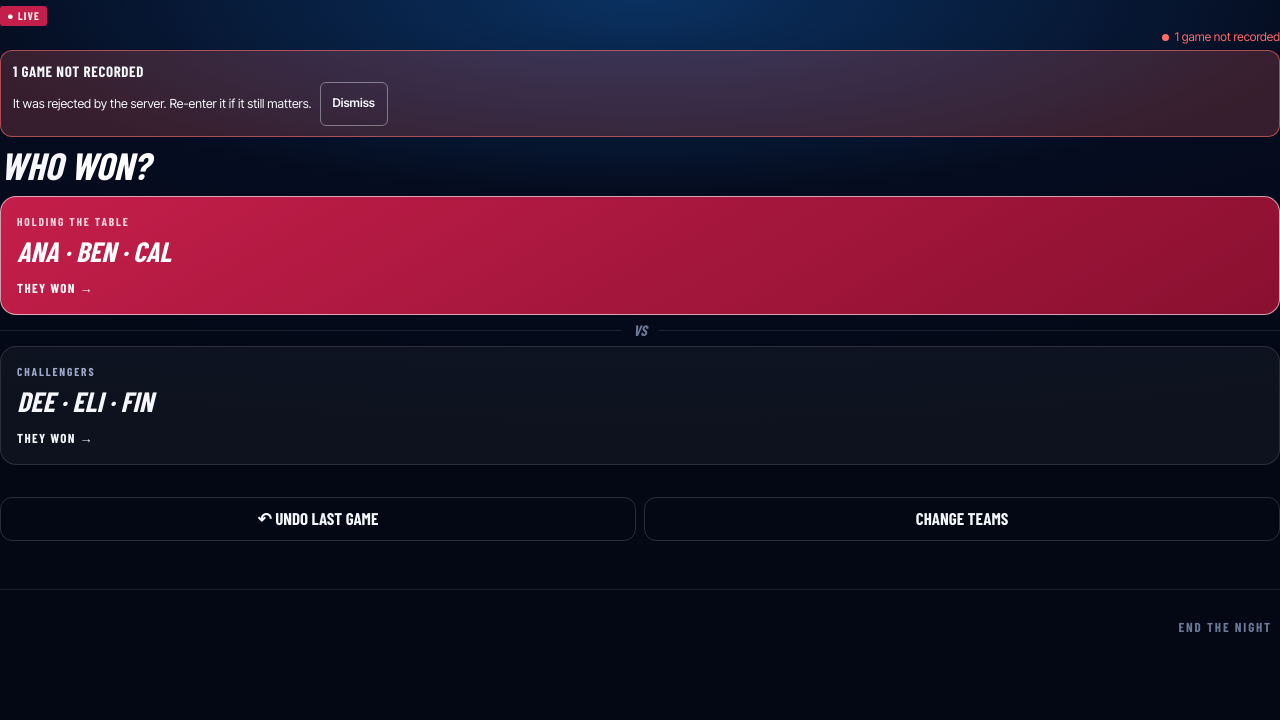
Test: TableMode: ending the night › refuses to end while a dead-lettered game is still unacknowledged
Click the button "End the night": (1225, 628) [1170,606,1279,650]
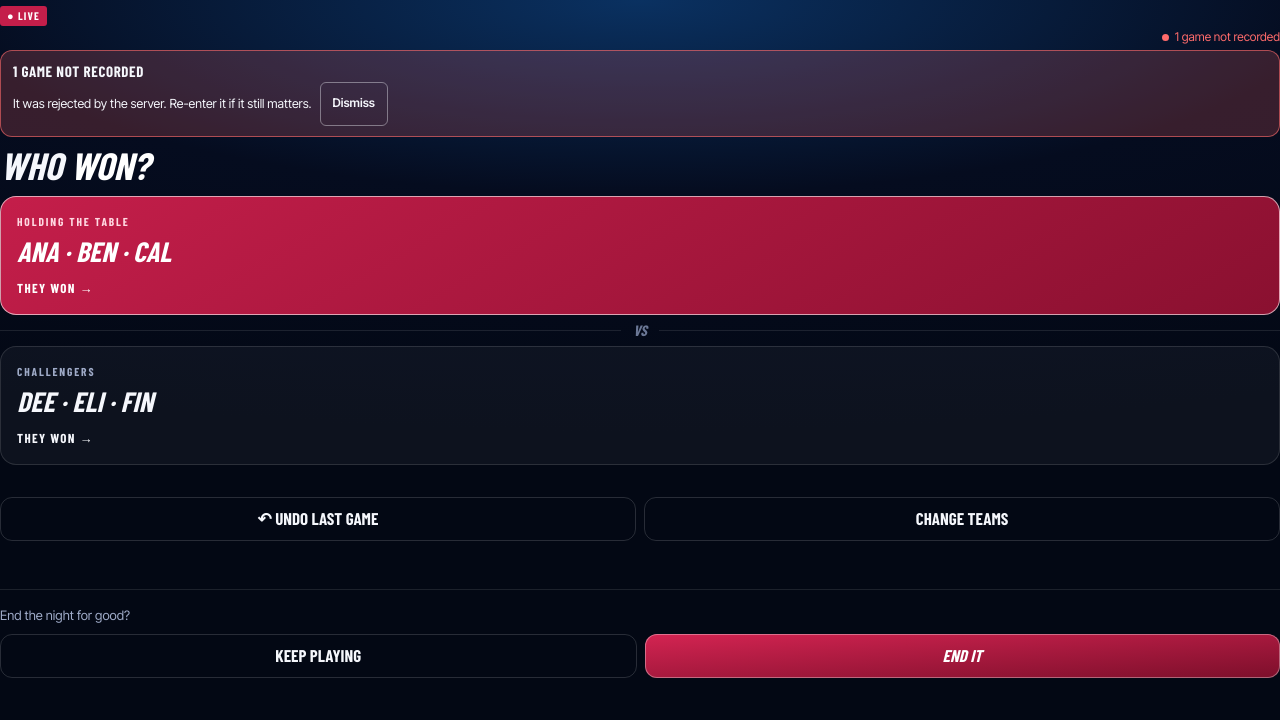
Click the button "End it": (962, 656) [644,634,1279,678]
(page scrolled)
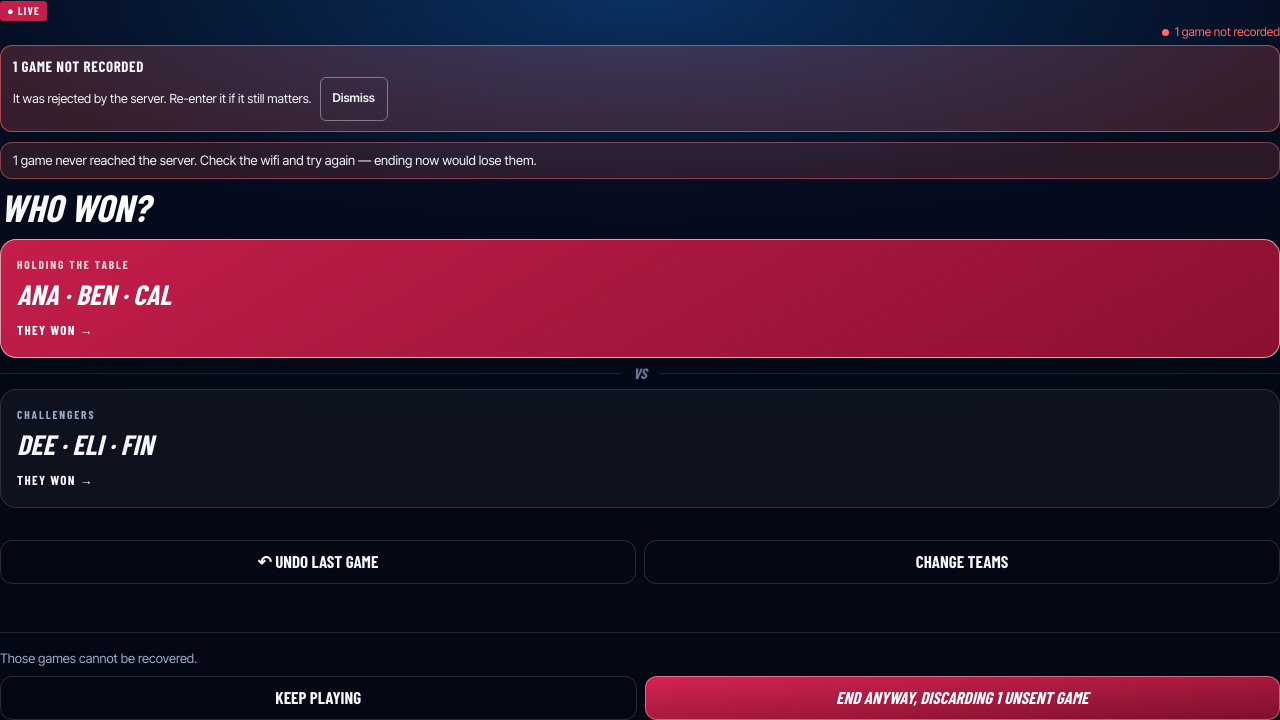
Now the text "1 game never reached the server" is shown, box [13,152,537,168]
Now the button "End anyway, discarding 1 unsent game" is shown, box [644,676,1279,719]
